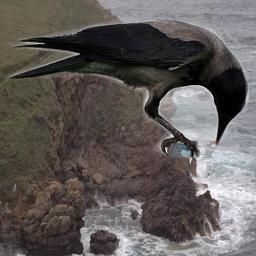Crow: (5, 17, 249, 158)
